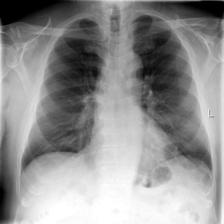normal: (16, 12, 216, 180)
